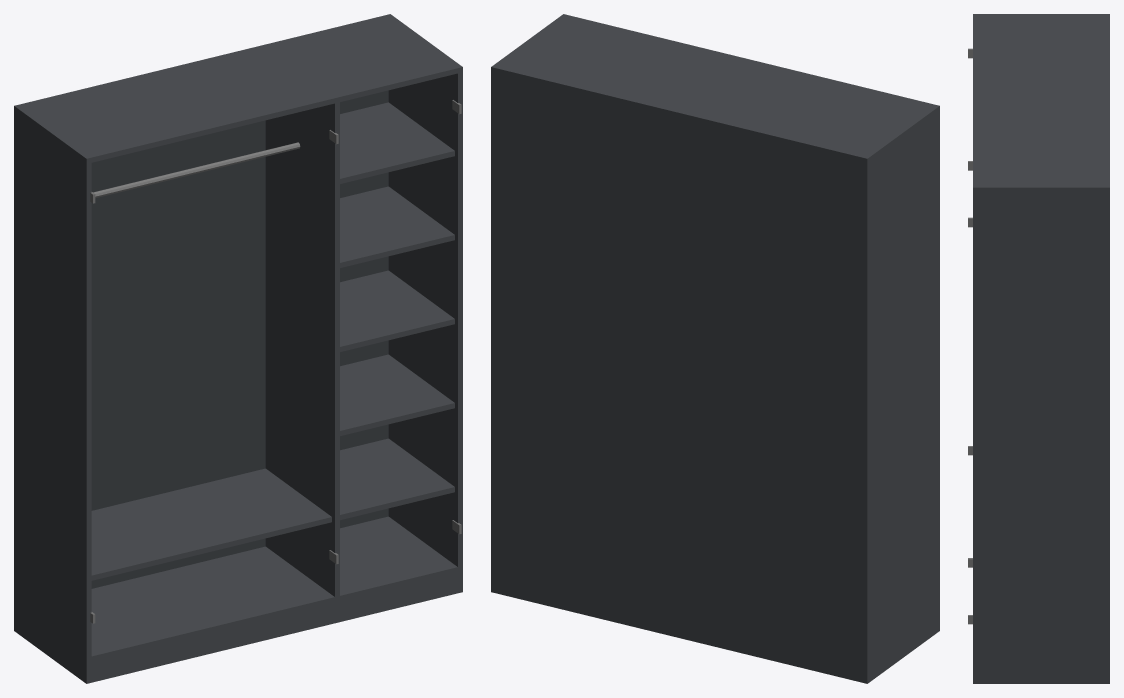
File: Wardrobe2_C2.fbx
The picture shows the model from 3 angles, left to right: view 1: azimuth 30°, elevation 25°; view 2: azimuth 150°, elevation 25°; view 3: azimuth 270°, elevation 25°; orthographic projection. The views are drawn at different scales.
Visible parts, largest first — view 1: Wardrobe2_C2; view 2: Wardrobe2_C2; view 3: Wardrobe2_C2.
Boxes of the visible parts, x1,y1,x2,y2 form: Wardrobe2_C2: [14, 14, 462, 683]; Wardrobe2_C2: [491, 14, 939, 683]; Wardrobe2_C2: [968, 14, 1109, 683].
Size of the model in its own units: 150 by 200 by 51.79.
